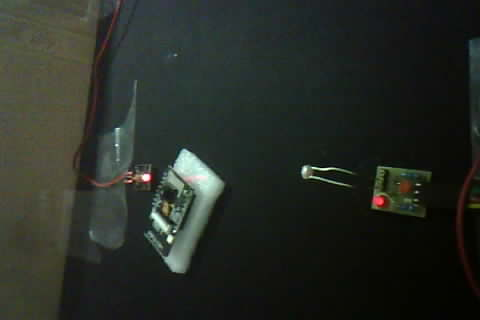esp32: (136, 157, 208, 266)
